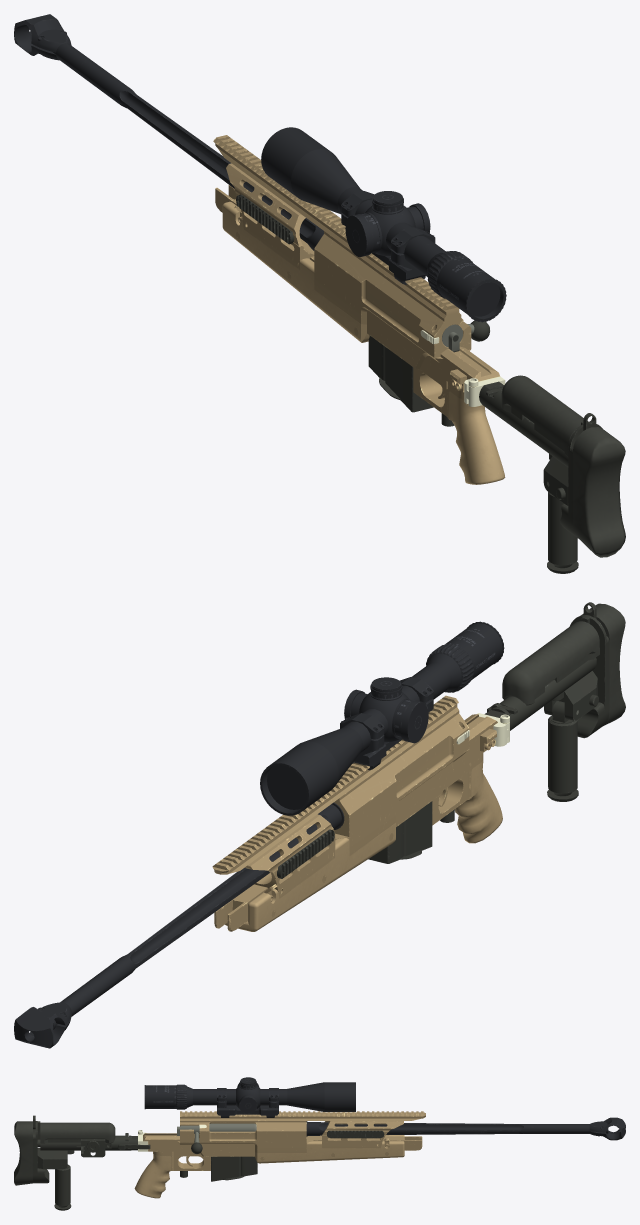
File: SniperRifle.glb
The picture shows the model from 3 angles, top to bottom: view 1: azimuth 30°, elevation 25°; view 2: azimuth 150°, elevation 25°; view 3: azimuth 270°, elevation 25°; orthographic projection. The views are drawn at different scales.
Parts seen in each view (by area): view 1: Body, ScopeBarrel, StockGrip; view 2: Body, ScopeBarrel, StockGrip; view 3: Body, ScopeBarrel, StockGrip.
Part boxes in pixels (<box>): Body: <box>213,135,505,484</box>; ScopeBarrel: <box>14,14,506,322</box>; StockGrip: <box>236,194,625,573</box>; Body: <box>212,695,509,931</box>; ScopeBarrel: <box>14,621,504,1048</box>; StockGrip: <box>277,602,625,878</box>; Body: <box>134,1111,425,1198</box>; ScopeBarrel: <box>144,1077,625,1140</box>; StockGrip: <box>14,1115,384,1210</box>.
Bounding box in the file's own units: 0.4704 × 1.3 × 5.64.
3 materials, 3 textured.
